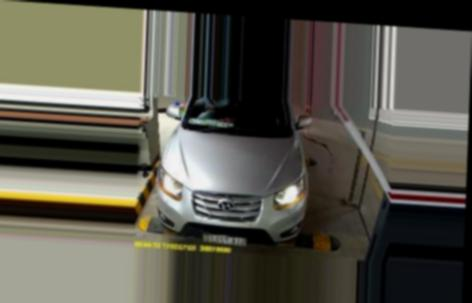License_Plate: (202, 232, 246, 247)
